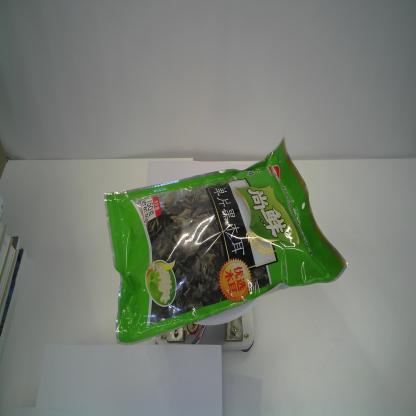Dried Food: (102, 134, 348, 347)
